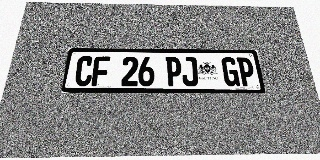2: (121, 57, 138, 86)
6: (138, 57, 154, 86)
C: (74, 56, 94, 86)
F: (91, 56, 110, 86)
G: (221, 57, 240, 86)
J: (181, 57, 199, 86)
P: (236, 57, 256, 86), (166, 57, 182, 86)
